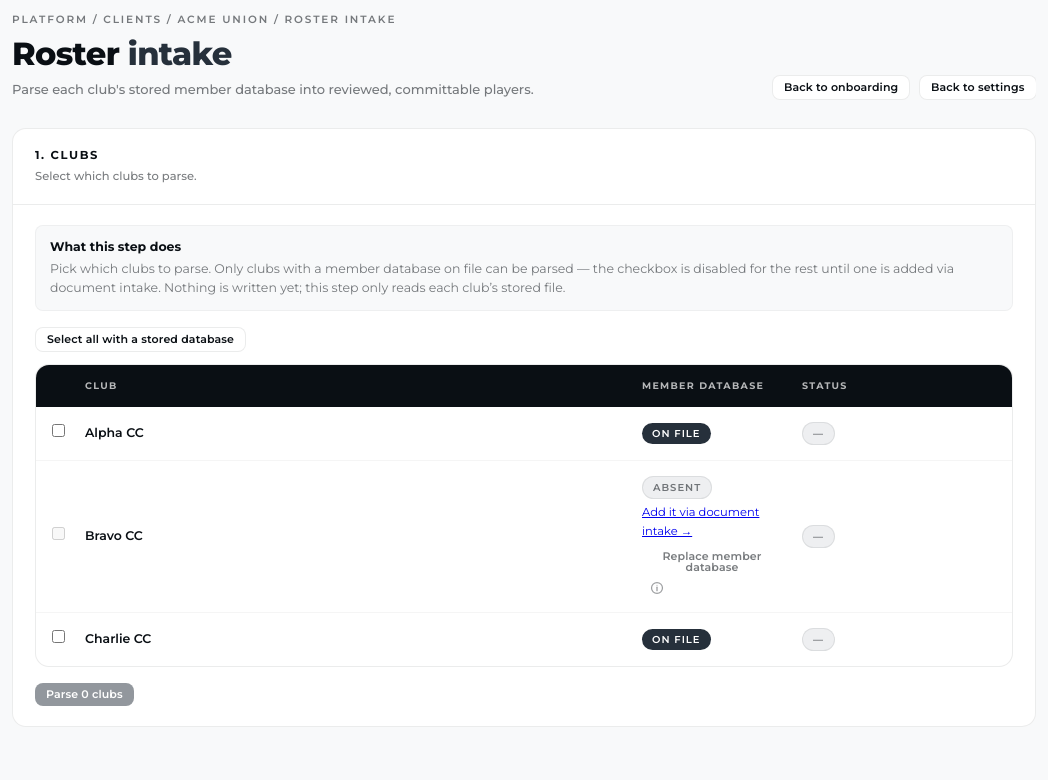
Test case: RosterIntakeWizard › commits per club and renders server-side crossClubConflicts prominently
Expected: the heading "Roster intake" is shown, [12, 34, 232, 73]
What coordinates should you click on to do the following:
click the checkbox named "select alpha cc"
I would click on:
 (58, 430)
Its box is [52, 424, 65, 437].
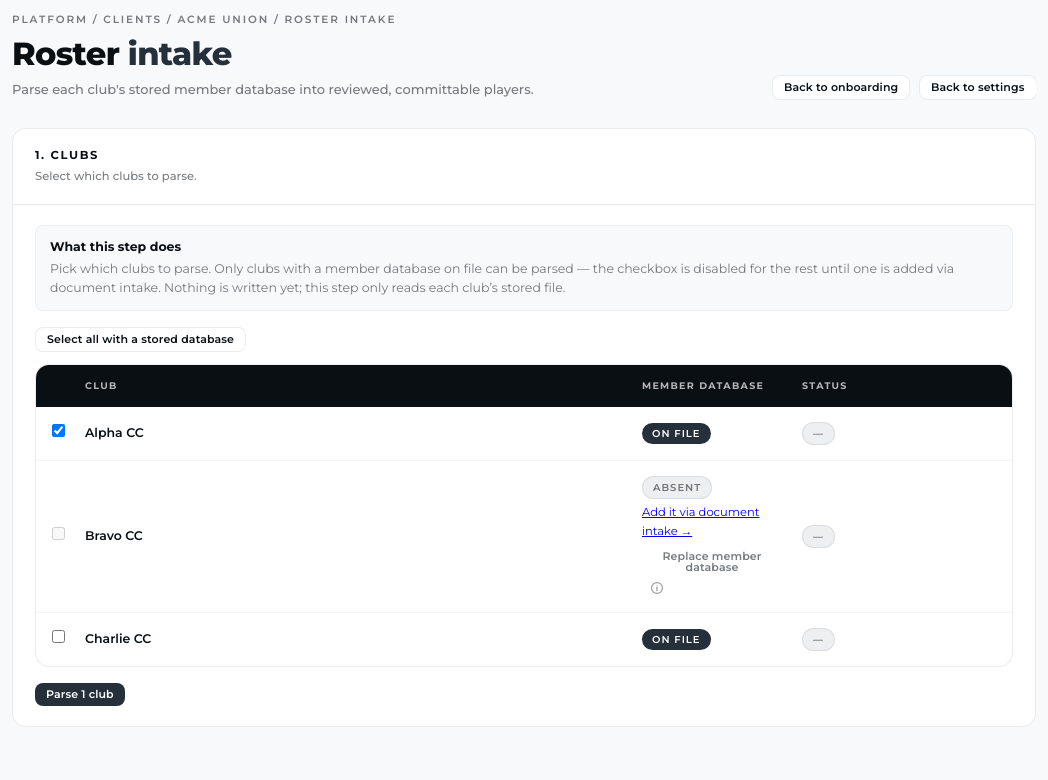
What coordinates should you click on to do the following:
click the button "Parse 1 club"
I would click on:
 (80, 694)
Its box is [35, 683, 125, 706].
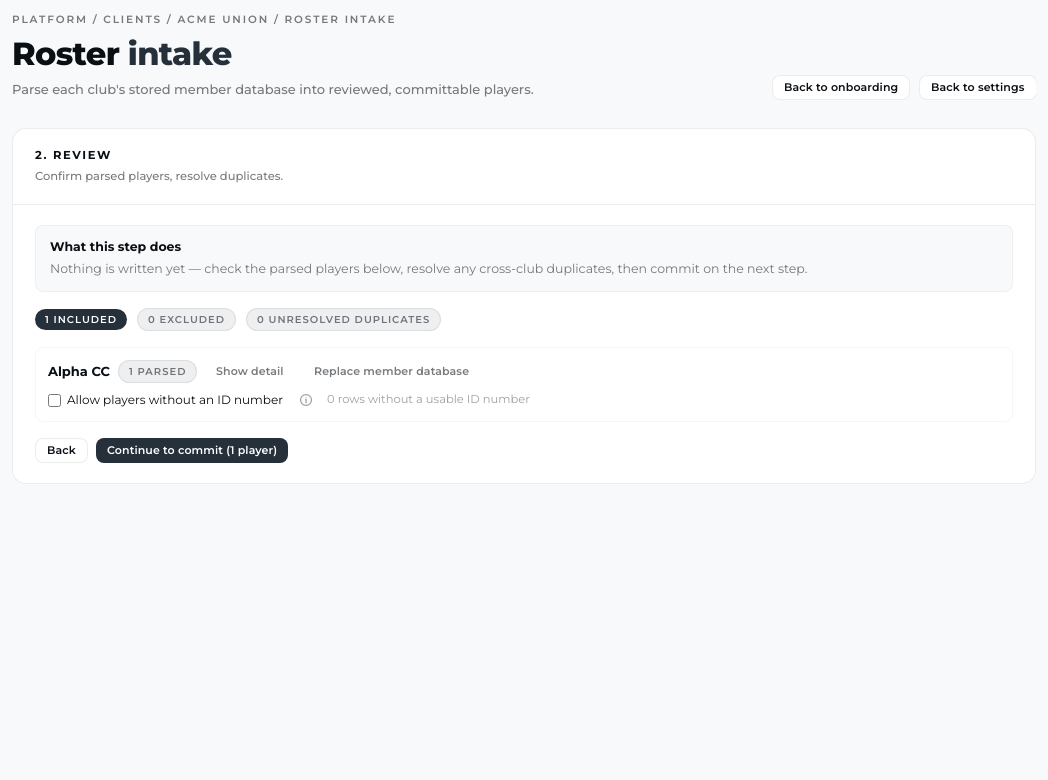
Expected: the text "1 parsed" is shown, [118, 360, 197, 383]
What coordinates should you click on to do the following:
click the button "Continue to commit (1 player)"
I would click on:
 (192, 450)
Its box is [96, 438, 288, 463].
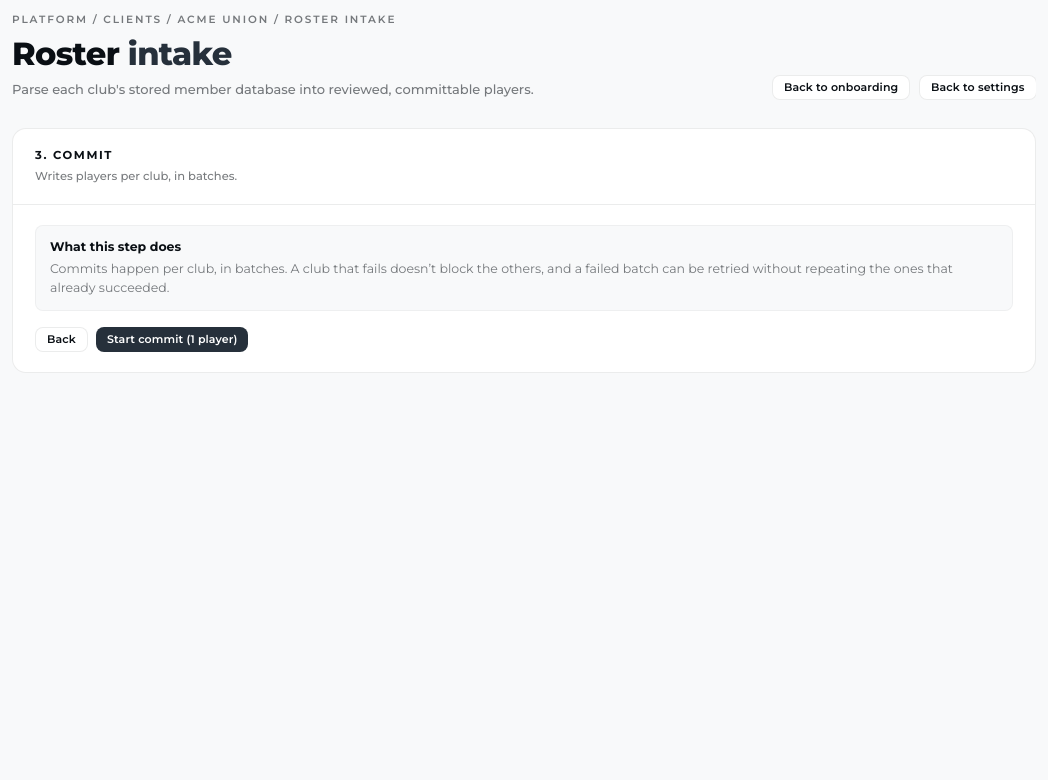
Expected: the text "3. Commit" is shown, [35, 148, 113, 162]
What coordinates should you click on to do the following:
click the button "Start commit (1 player)"
I would click on:
 (172, 339)
Its box is [96, 326, 248, 352].
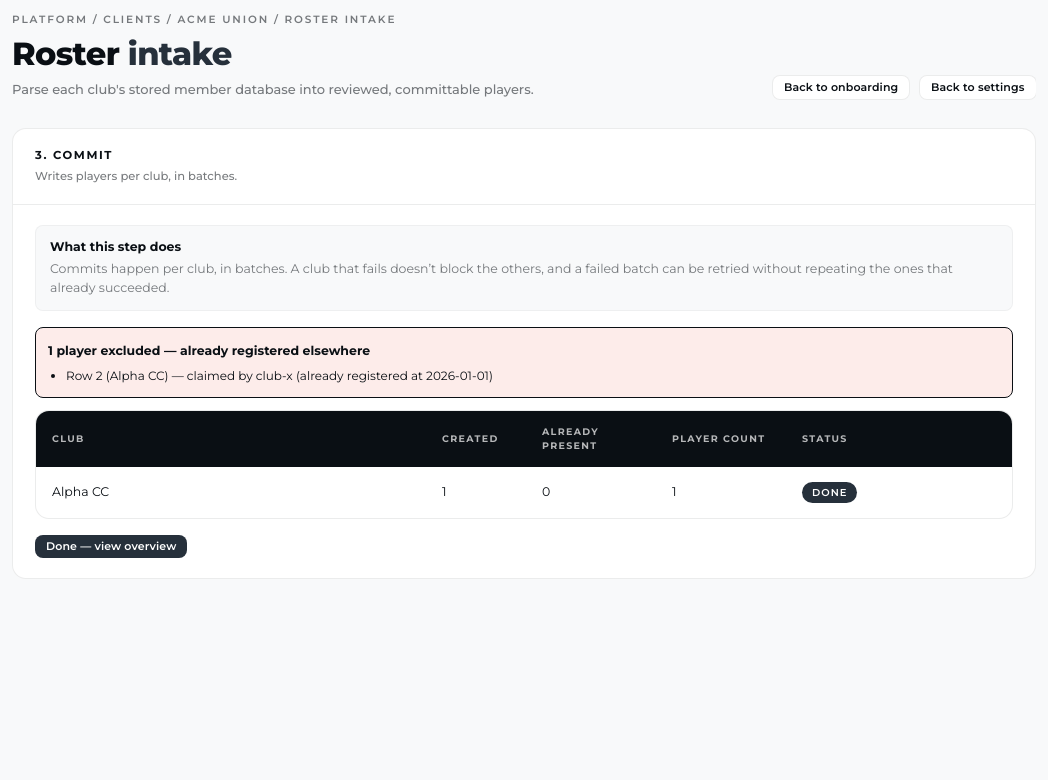
Expected: the text "1 player excluded — already registered elsewhere" is shown, [48, 342, 370, 358]
Expected: the list item "claimed by club-x" is shown, [66, 368, 493, 382]
